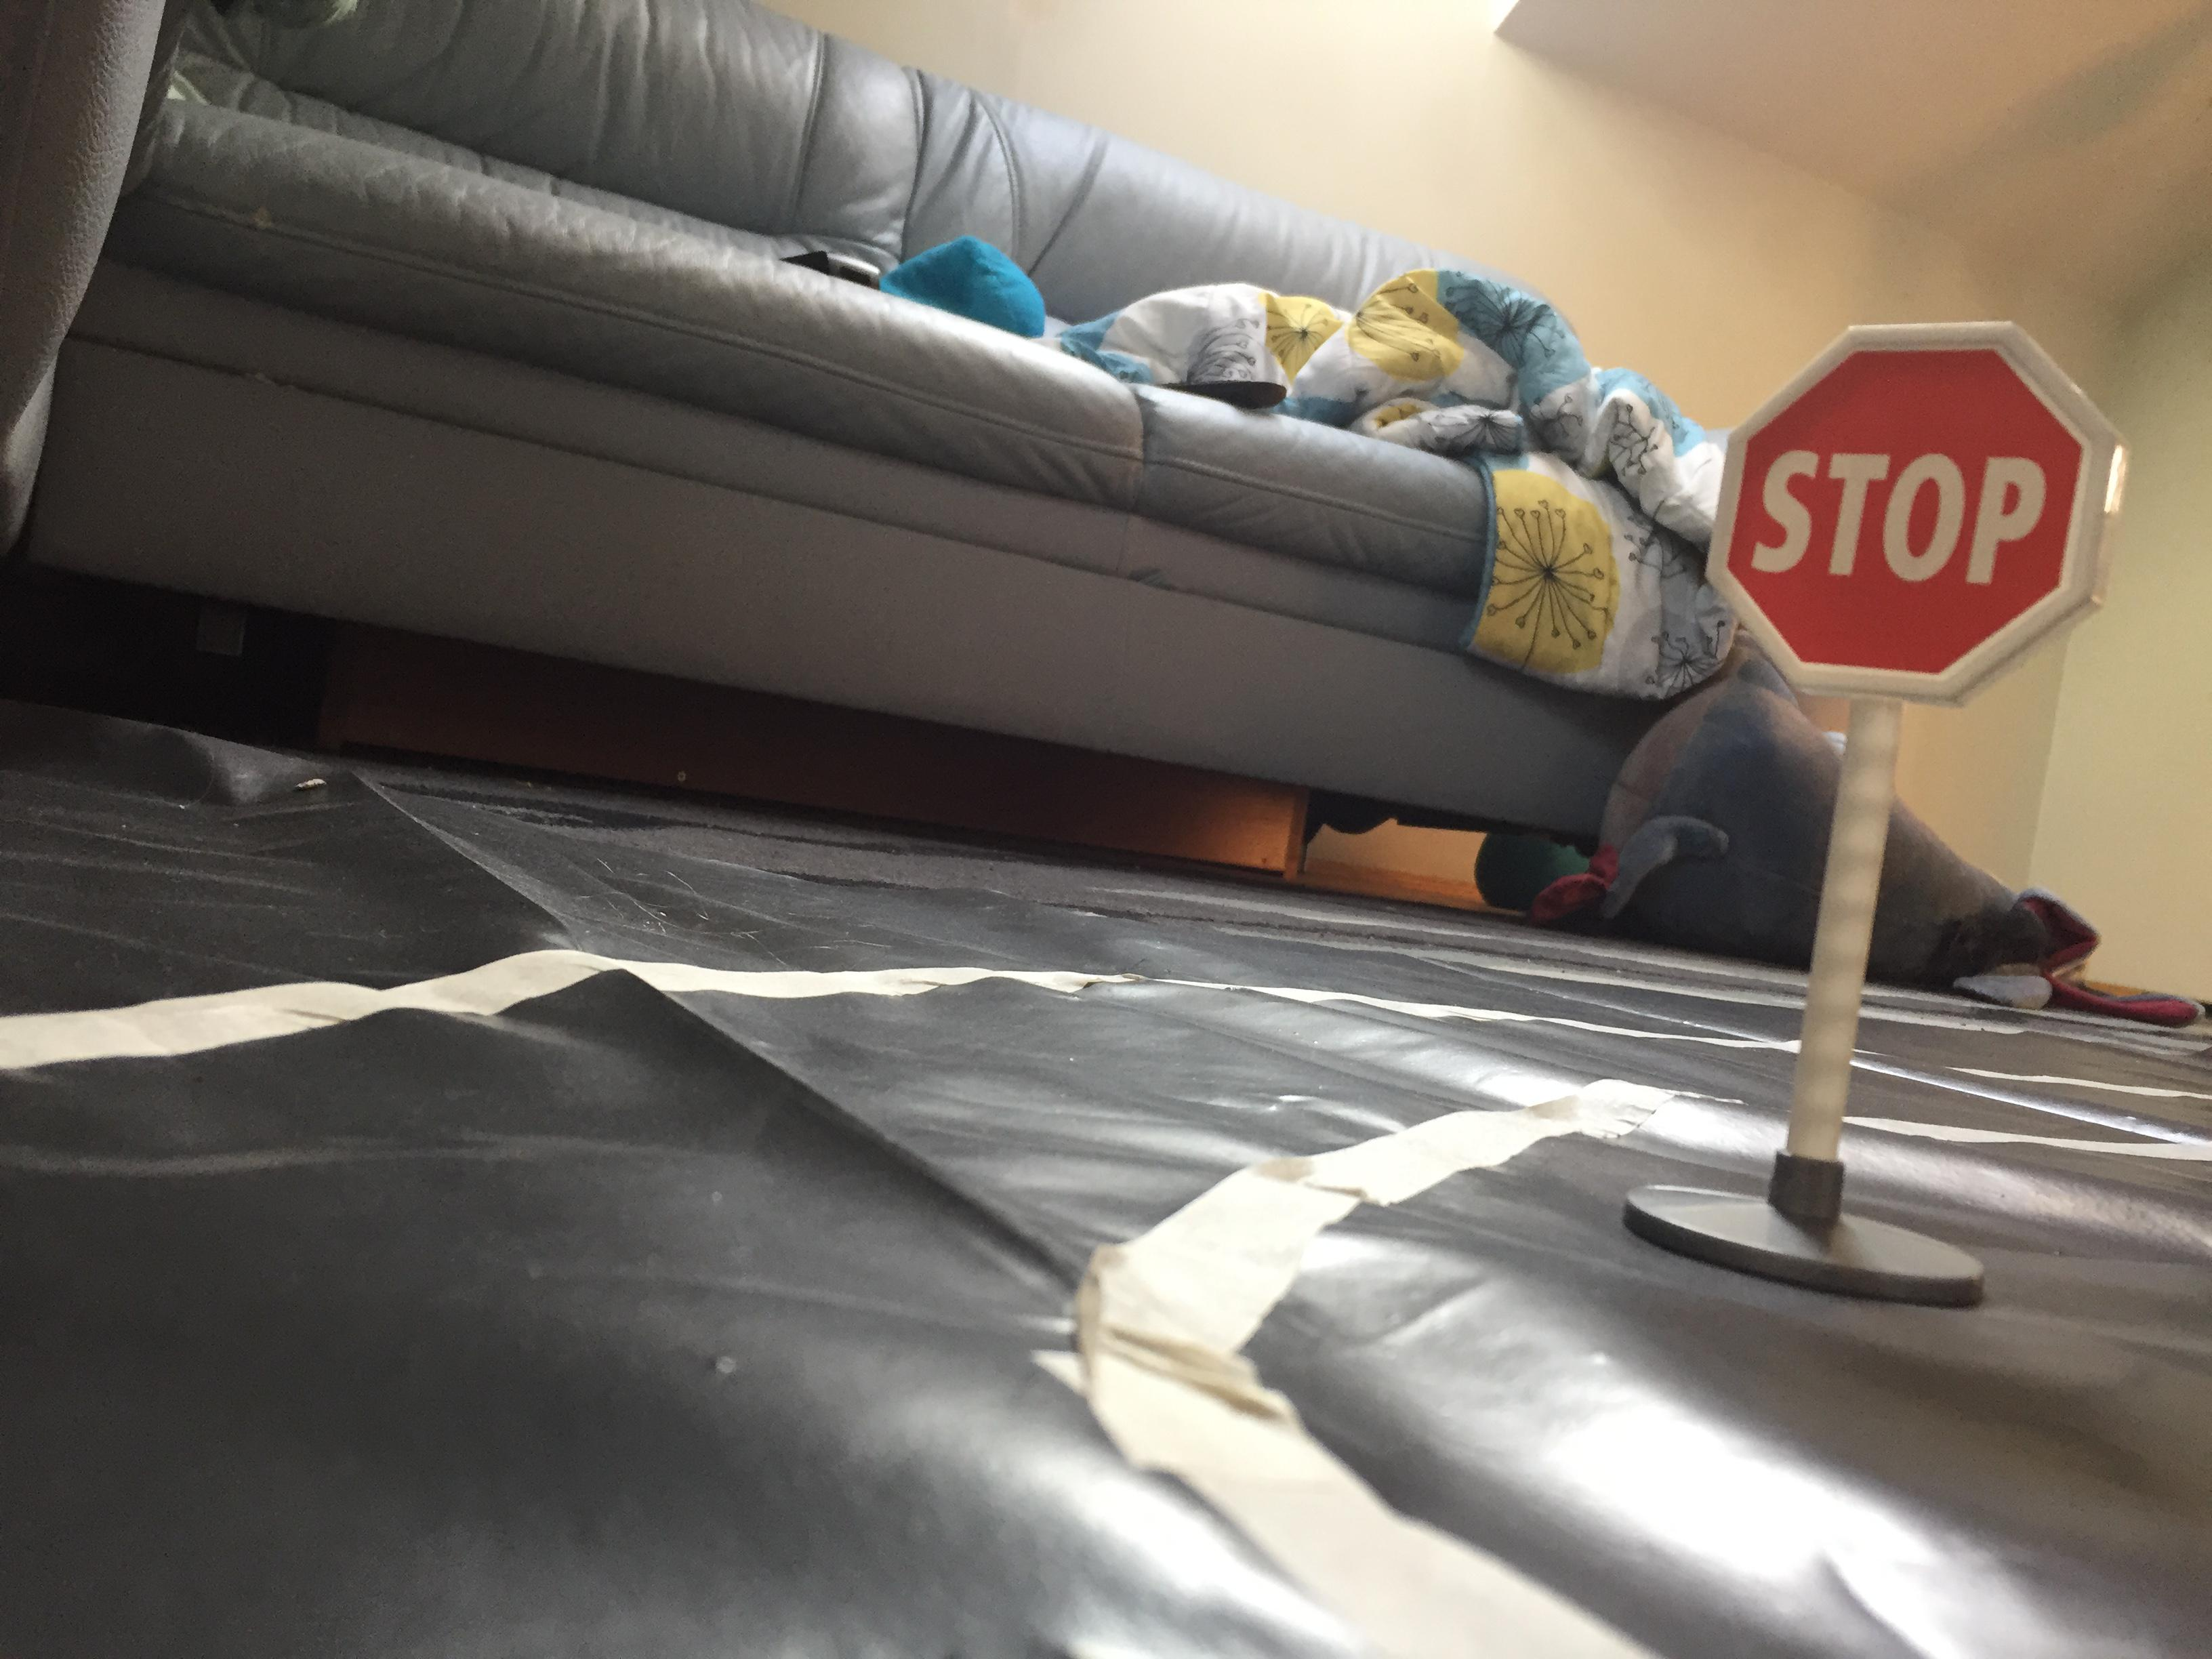stop: (1693, 310, 2134, 721)
